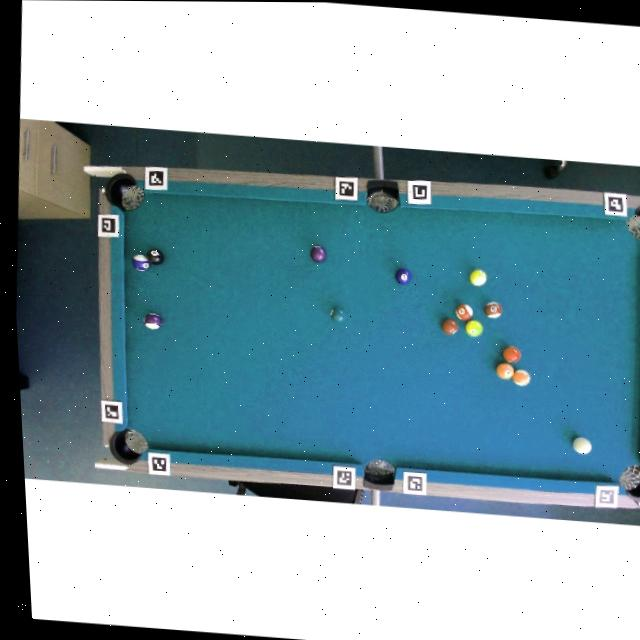cue ball: (571, 437, 592, 455)
other: (143, 247, 165, 266), (142, 311, 164, 330), (328, 305, 350, 324), (130, 253, 151, 272), (308, 244, 328, 263), (393, 266, 413, 285), (454, 303, 474, 322), (501, 345, 522, 363), (510, 369, 531, 387), (463, 319, 484, 337), (483, 301, 503, 319), (494, 362, 514, 380), (468, 268, 487, 286), (440, 318, 459, 335)
